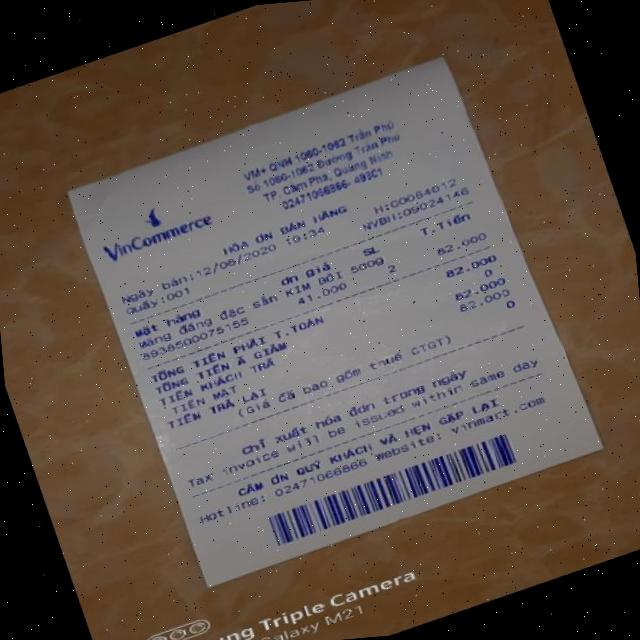Date: (191, 241, 278, 278)
Store_Name: (91, 206, 221, 268)
amount_number: (440, 250, 501, 280)
label_total: (146, 310, 332, 382)
